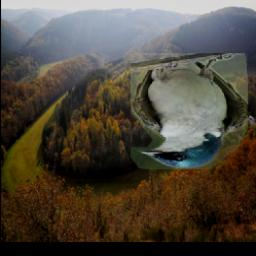Swallow: (131, 53, 248, 169)
